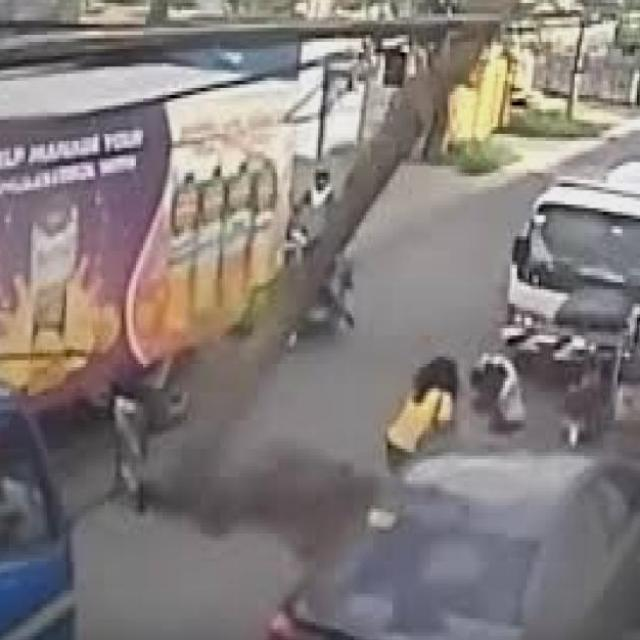fallen_object: (130, 0, 521, 509)
